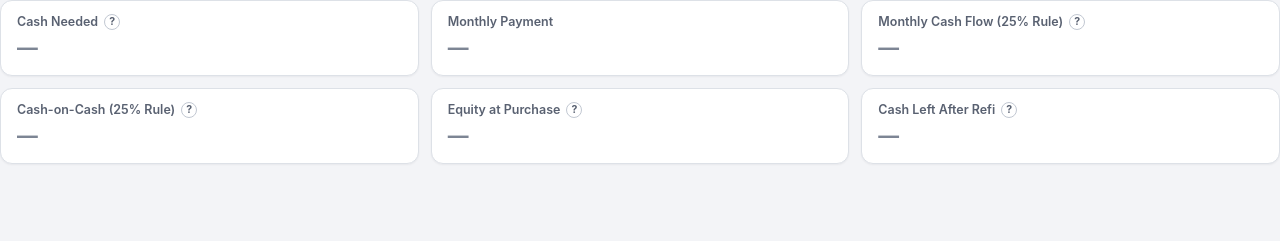
Test: KeyMetrics › closes a tip when another one opens
Click the button named "What is cash needed?".
click(112, 22)  # box [104,14,120,30]
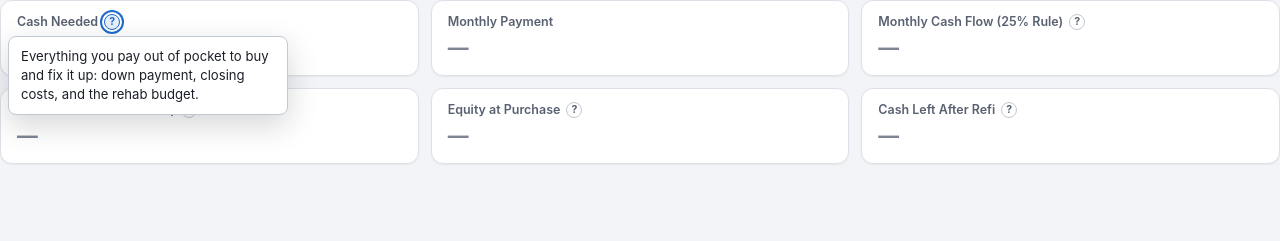
Check: the text "Everything you pay out of pocket" is shown, box [21,48,269,102]
Click the button named "What is equity at purchase?".
click(574, 110)  # box [566,102,582,118]
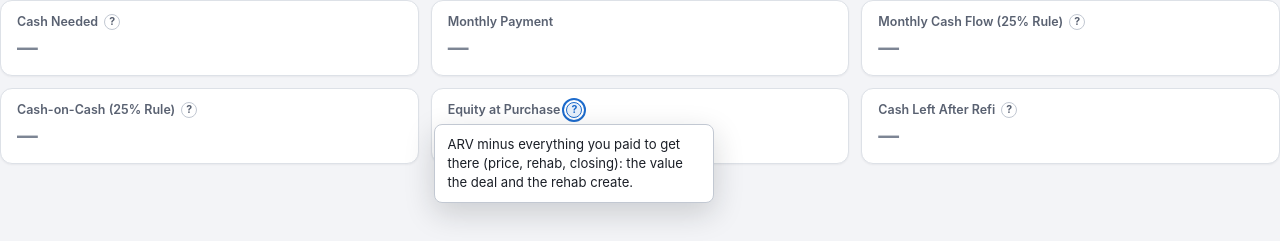
Check: the text "Everything you pay out of pocket" is gone
Check: the text "the value the deal and the rehab create" is shown, box [447,136,683,190]
